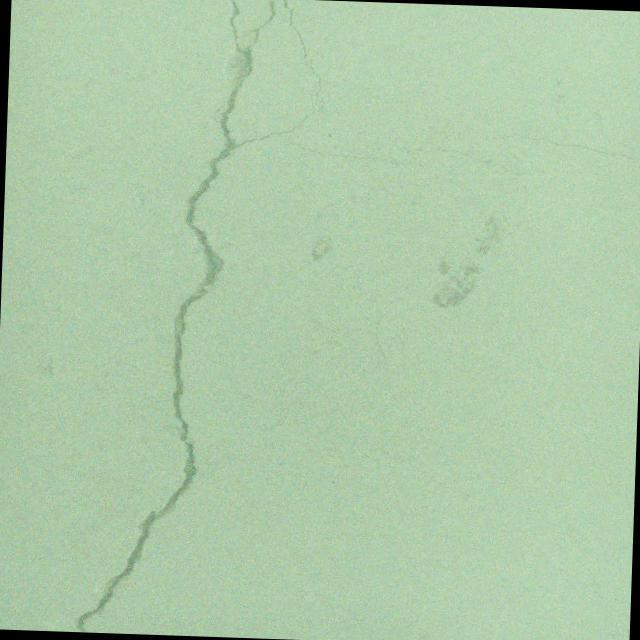crack: (73, 0, 434, 640), (468, 131, 640, 162), (17, 528, 84, 563), (402, 146, 529, 164), (57, 584, 68, 620)
